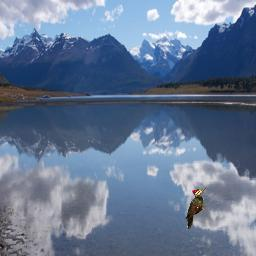Woodpecker: (185, 187, 208, 230)
